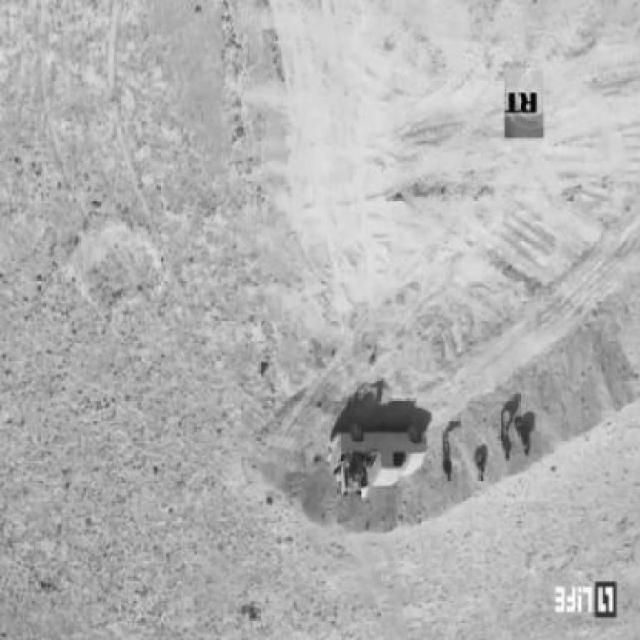Person: (500, 408, 517, 466), (442, 431, 457, 489), (517, 418, 536, 462), (477, 446, 491, 485)
Vehicle: (327, 424, 433, 501)
